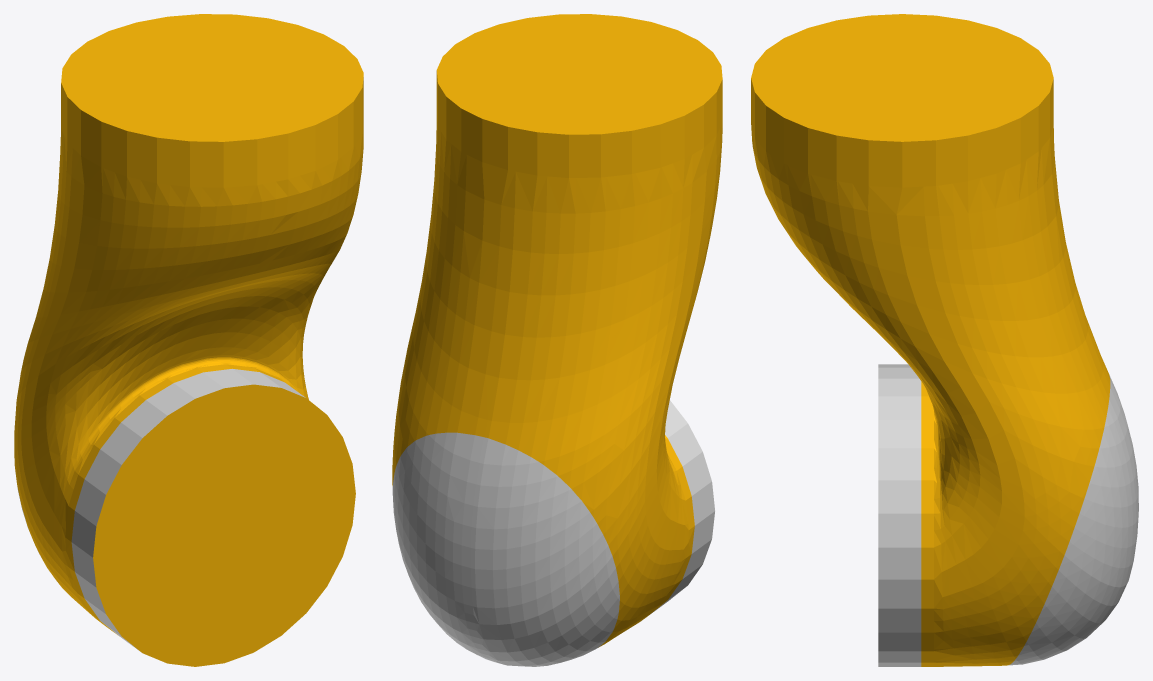
3 renders of one model, left to right at view 1: azimuth 30°, elevation 25°; view 2: azimuth 150°, elevation 25°; view 3: azimuth 270°, elevation 25°, orthographic. The views are drawn at different scales.
Visible parts, largest first — view 1: link_2; view 2: link_2; view 3: link_2.
Part boxes in pixels (<box>): link_2: <box>14,14,363,666</box>; link_2: <box>392,14,722,666</box>; link_2: <box>751,14,1138,666</box>.
Size of the model in its own units: 0.12 by 0.1538 by 0.2515.
